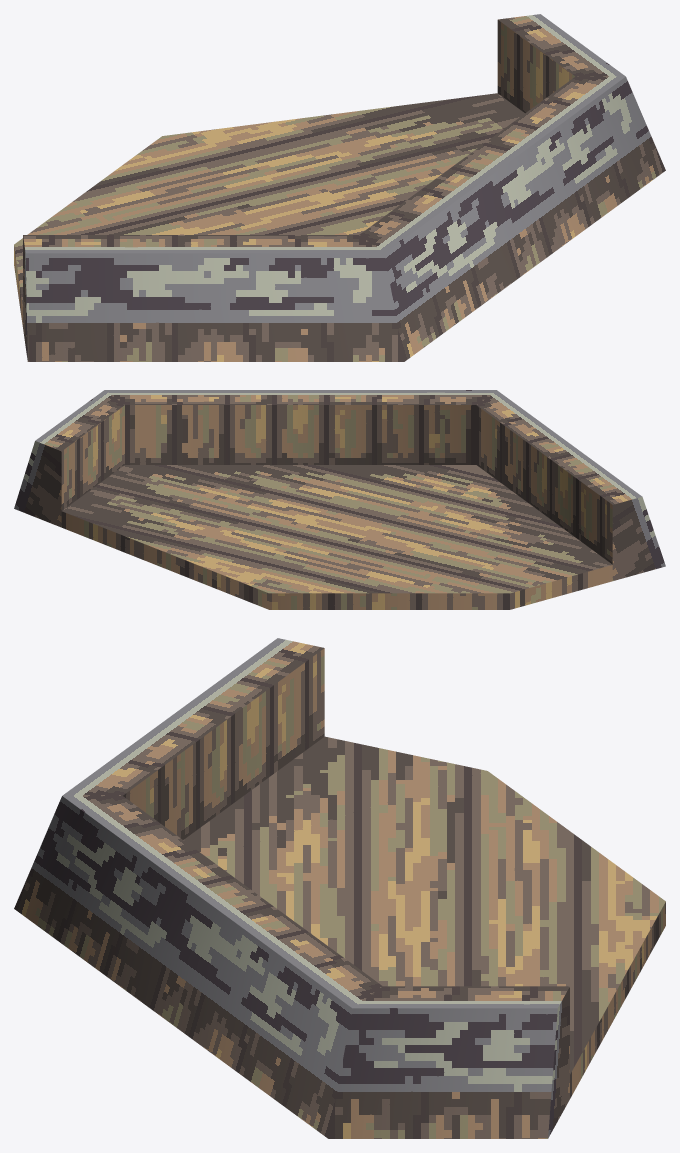
Rendered from barrel_gib_01_lid.glb.
3 views of the same model, one above another, from view 1: azimuth 30°, elevation 25°; view 2: azimuth 150°, elevation 25°; view 3: azimuth 270°, elevation 25° (orthographic). The views are drawn at different scales.
Parts seen in each view (by area): view 1: upper part; view 2: upper part; view 3: upper part.
Boxes of the visible parts, box(x1,y1,x2,y2) form: upper part: box(14, 14, 665, 361); upper part: box(14, 390, 665, 609); upper part: box(14, 638, 665, 1138).
Size of the model in its own units: 1.19 by 0.1578 by 0.8258.
1 material, 1 textured.
